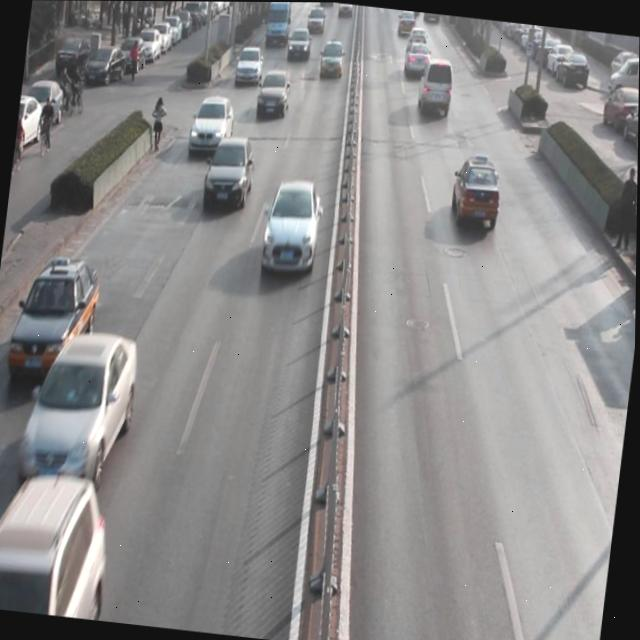car: (25, 330, 141, 487), (0, 474, 114, 620), (11, 255, 100, 376), (260, 176, 325, 280), (448, 151, 504, 234), (204, 134, 259, 214), (186, 92, 238, 157), (256, 68, 293, 121), (232, 40, 267, 88), (402, 32, 433, 76), (318, 38, 346, 81), (287, 23, 314, 61), (305, 3, 327, 35)
truck: (416, 52, 457, 119), (263, 2, 294, 47)
